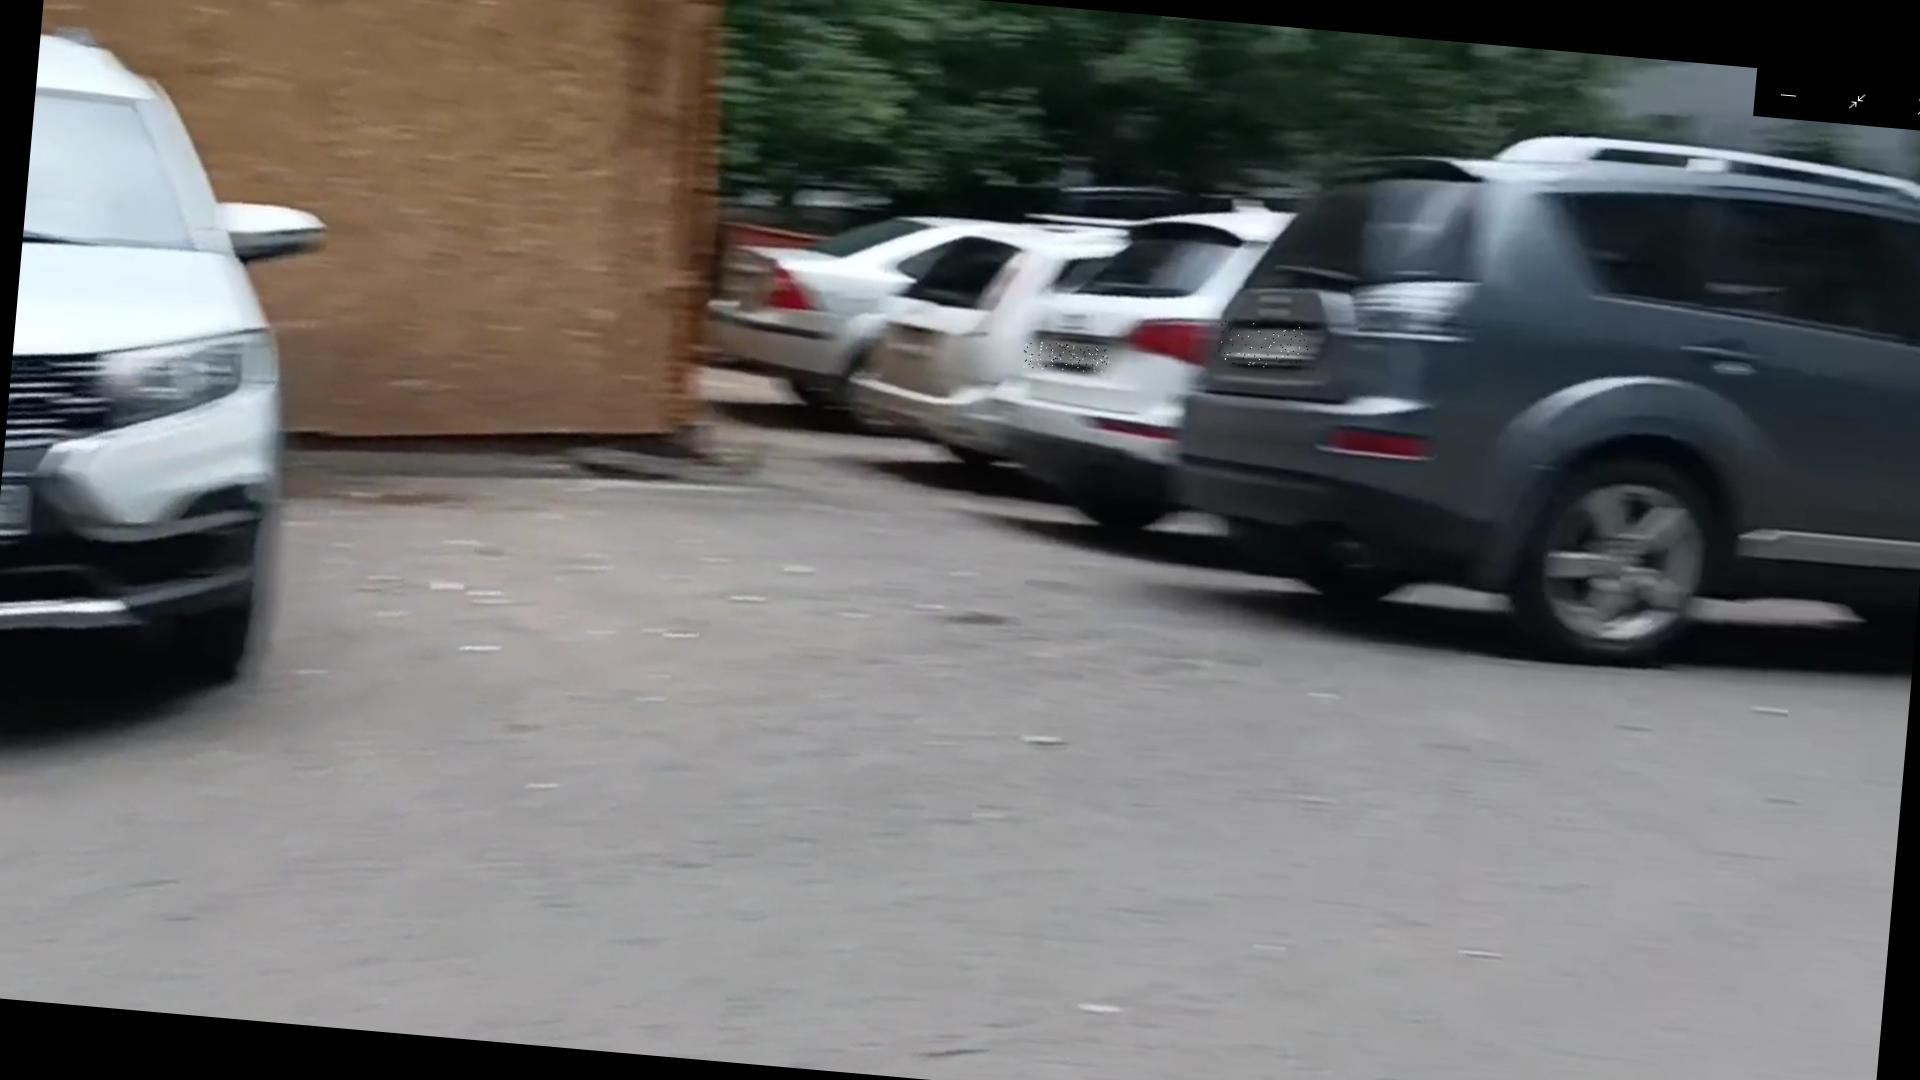plate: (1219, 320, 1313, 373), (1024, 342, 1112, 376)
